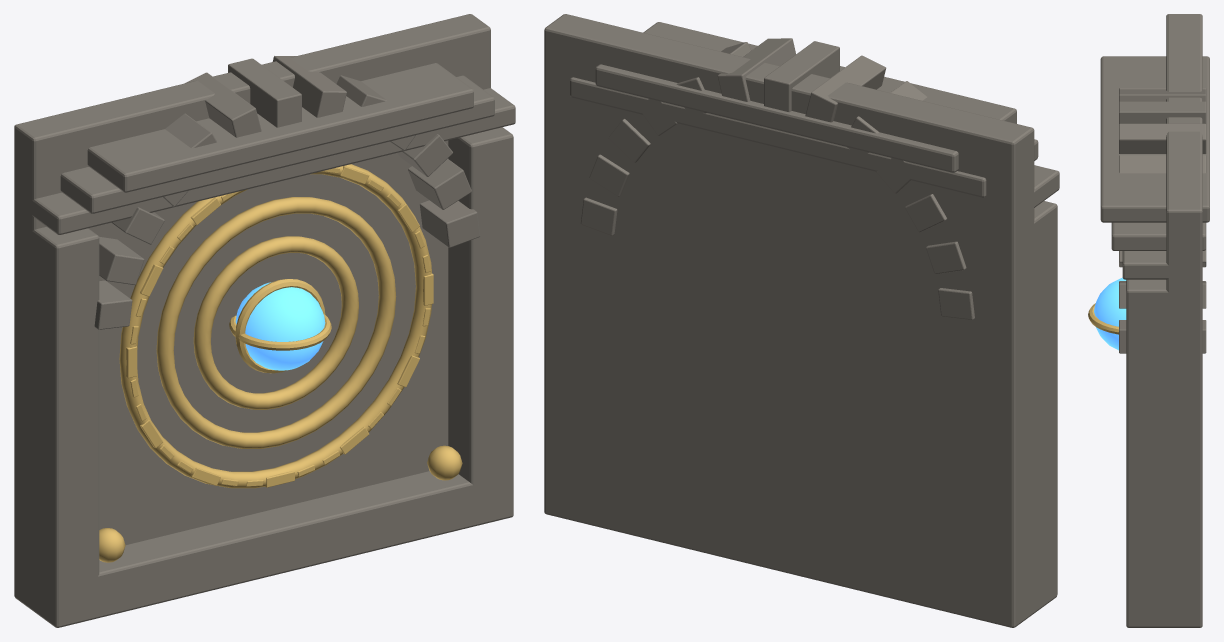
File: blender_s3_cosmic_vault_alcove.glb
The picture shows the model from 3 angles, left to right: view 1: azimuth 30°, elevation 25°; view 2: azimuth 150°, elevation 25°; view 3: azimuth 270°, elevation 25°; orthographic projection. The views are drawn at different scales.
Visible parts, largest first — view 1: Vault_BackPanel, Vault_Jamb_-1, Vault_Sill, Vault_Jamb_1, Vault_Cornice_2, Vault_Ring_1, Vault_Ring_0, Vault_Ring_2, Vault_Cornice_0, Vault_Cornice_1, Vault_Orb, Vault_Arch_6 (+14 smaller); view 2: Vault_BackPanel, Vault_Jamb_-1, Vault_Cornice_2, Vault_Cornice_1, Vault_Cornice_0, Vault_Arch_6, Vault_Arch_7, Vault_Arch_5, Vault_Sill, Vault_Arch_0, Vault_Arch_12, Vault_Arch_1 (+6 smaller); view 3: Vault_BackPanel, Vault_Jamb_1, Vault_Cornice_2, Vault_Arch_5, Vault_Arch_6, Vault_Cornice_1, Vault_Cornice_0, Vault_Orb, Vault_Arch_4, Vault_Arch_7, Vault_Arch_0, Vault_Arch_1 (+2 smaller).
Part boxes in pixels (left/top/right/bottom): Vault_BackPanel: left=14, top=14, right=490, bottom=598; Vault_Jamb_-1: left=16, top=220, right=99, bottom=627; Vault_Sill: left=16, top=471, right=513, bottom=627; Vault_Jamb_1: left=448, top=127, right=513, bottom=526; Vault_Cornice_2: left=87, top=63, right=473, bottom=192; Vault_Ring_1: left=156, top=197, right=396, bottom=448; Vault_Ring_0: left=119, top=164, right=431, bottom=488; Vault_Ring_2: left=193, top=236, right=358, bottom=409; Vault_Cornice_0: left=14, top=88, right=515, bottom=234; Vault_Cornice_1: left=60, top=75, right=494, bottom=213; Vault_Orb: left=235, top=282, right=325, bottom=370; Vault_Arch_6: left=228, top=58, right=301, bottom=127; Vault_BackPanel: left=544, top=14, right=1034, bottom=627; Vault_Jamb_-1: left=1017, top=201, right=1057, bottom=625; Vault_Cornice_2: left=595, top=22, right=1016, bottom=172; Vault_Cornice_1: left=570, top=77, right=1038, bottom=197; Vault_Cornice_0: left=546, top=93, right=1059, bottom=220; Vault_Arch_6: left=764, top=41, right=839, bottom=112; Vault_Arch_7: left=805, top=55, right=886, bottom=122; Vault_Arch_5: left=717, top=38, right=795, bottom=101; Vault_Sill: left=1017, top=554, right=1057, bottom=623; Vault_Arch_0: left=580, top=197, right=617, bottom=235; Vault_Arch_12: left=938, top=288, right=974, bottom=319; Vault_Arch_1: left=589, top=154, right=629, bottom=196; Vault_BackPanel: left=1166, top=14, right=1202, bottom=627; Vault_Jamb_1: left=1126, top=279, right=1196, bottom=627; Vault_Cornice_2: left=1100, top=56, right=1209, bottom=222; Vault_Arch_5: left=1119, top=123, right=1206, bottom=153; Vault_Arch_6: left=1119, top=101, right=1206, bottom=123; Vault_Cornice_1: left=1111, top=222, right=1206, bottom=250; Vault_Cornice_0: left=1122, top=251, right=1202, bottom=279; Vault_Orb: left=1094, top=277, right=1126, bottom=350; Vault_Arch_4: left=1119, top=155, right=1206, bottom=173; Vault_Arch_7: left=1119, top=89, right=1206, bottom=101; Vault_Arch_0: left=1119, top=320, right=1206, bottom=353; Vault_Arch_1: left=1119, top=281, right=1206, bottom=308.
Bounding box in the file's own units: 1.36 × 1.36 × 0.355.
